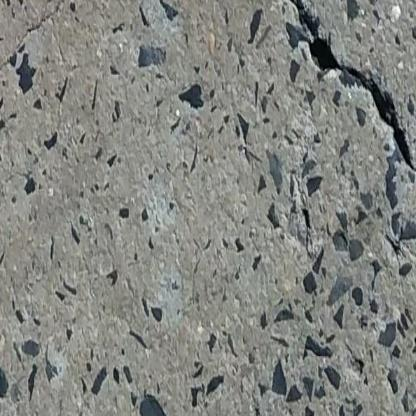Cracks: (295, 22, 416, 212), (285, 0, 302, 4)
